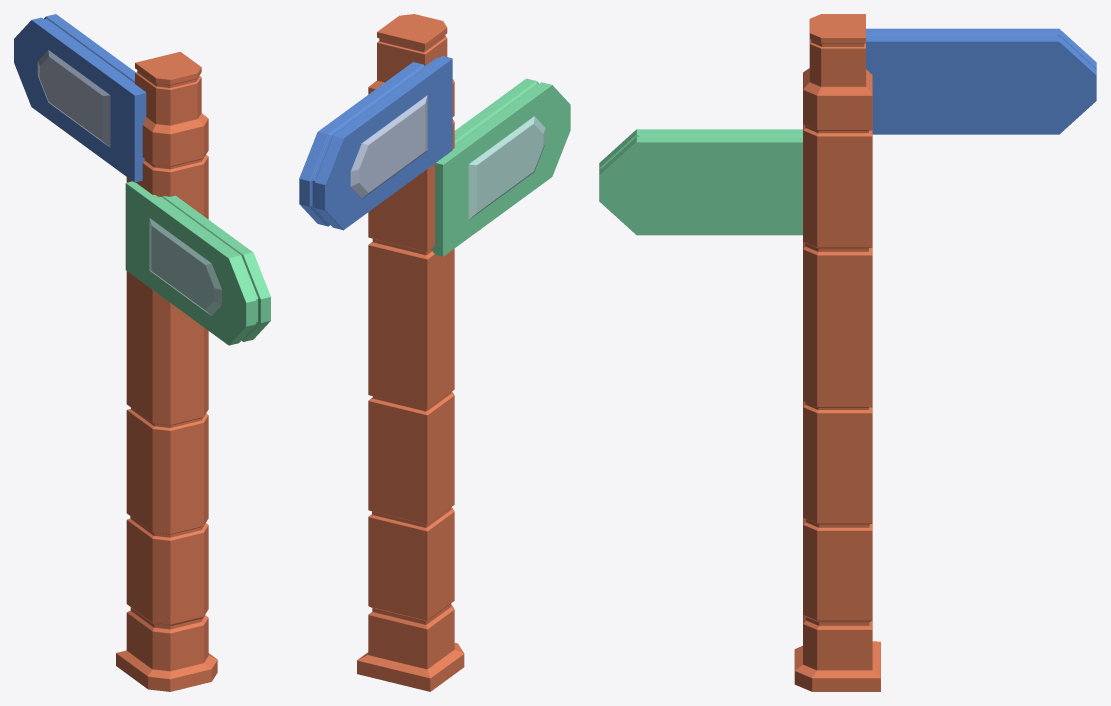
The model's file is Sign 2.fbx.
3 views of the same model, side by side, from view 1: azimuth 30°, elevation 25°; view 2: azimuth 150°, elevation 25°; view 3: azimuth 270°, elevation 25° (orthographic). The views are drawn at different scales.
Visible parts, largest first — view 1: Sign 2; view 2: Sign 2; view 3: Sign 2.
Boxes of the visible parts, bbox=[...] form: Sign 2: bbox=[14, 14, 270, 691]; Sign 2: bbox=[299, 14, 570, 691]; Sign 2: bbox=[599, 14, 1096, 691].
Size of the model in its own units: 96.96 by 758 by 527.
